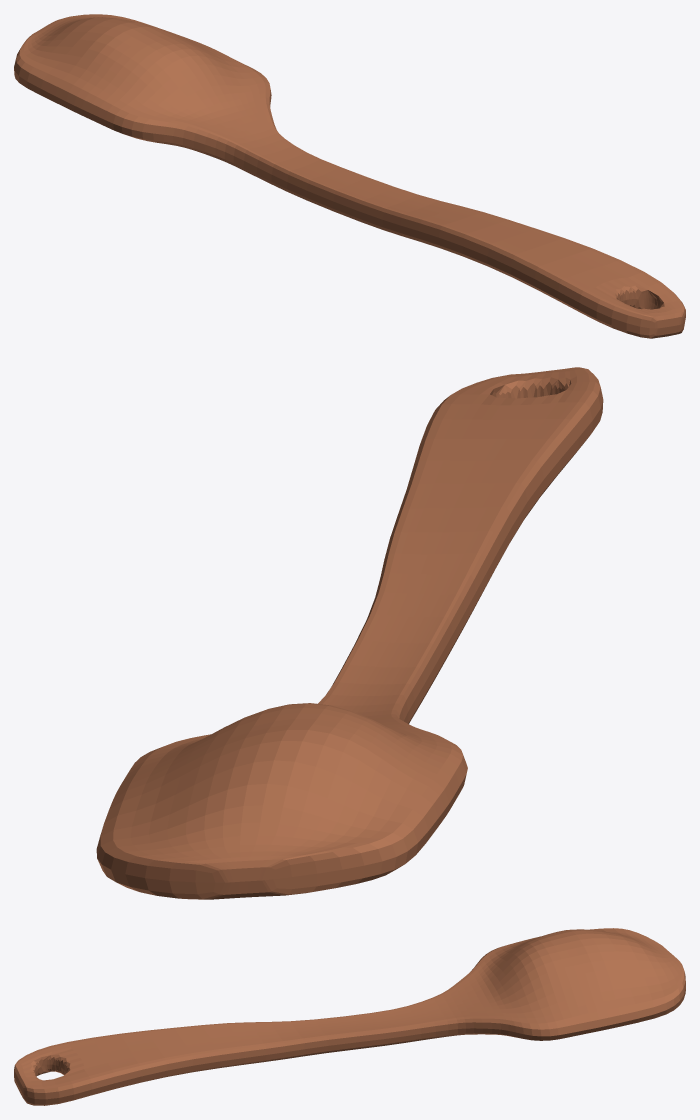
The model's file is cucharon.fbx.
The picture shows the model from 3 angles, top to bottom: view 1: azimuth 30°, elevation 25°; view 2: azimuth 150°, elevation 25°; view 3: azimuth 270°, elevation 25°; orthographic projection. The views are drawn at different scales.
Visible parts, largest first — view 1: Plane.009; view 2: Plane.009; view 3: Plane.009.
Part boxes in pixels (x1,y1,x2,y2): Plane.009: [14, 14, 685, 338]; Plane.009: [96, 367, 603, 899]; Plane.009: [14, 928, 685, 1105].
Size of the model in its own units: 162 by 22.3 by 70.11.
